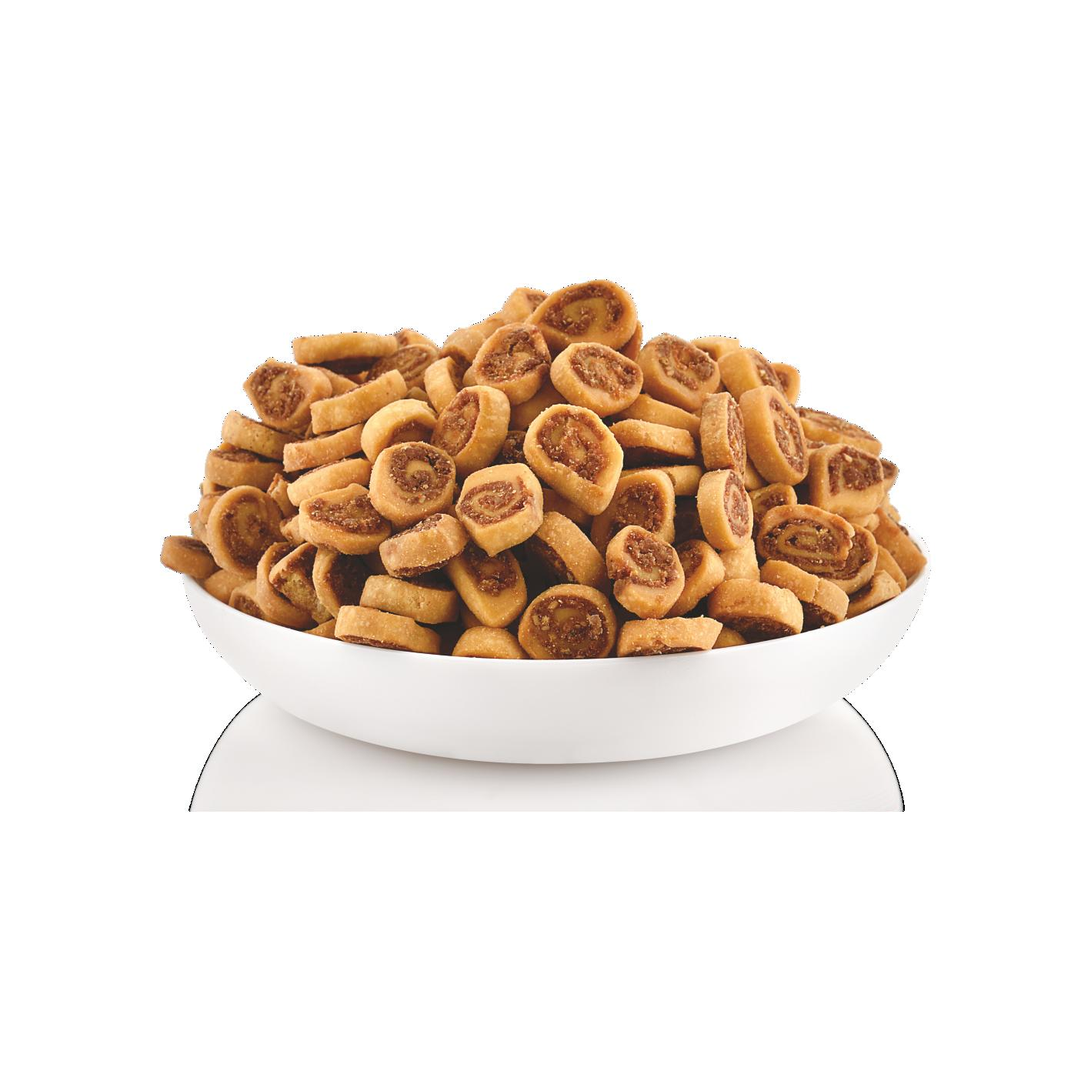bhakarwadi: (169, 270, 940, 677)
